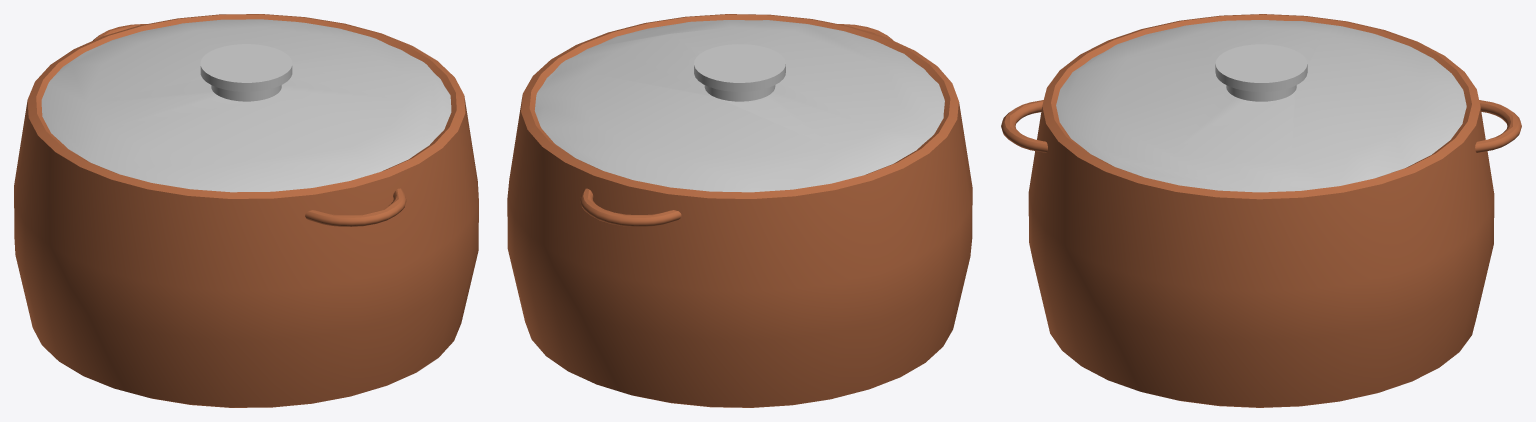
Rendered from Small Orange Pot.fbx.
3 views of the same model, side by side, from view 1: azimuth 30°, elevation 25°; view 2: azimuth 150°, elevation 25°; view 3: azimuth 270°, elevation 25° (orthographic).
Visible parts, largest first — view 1: Small Orange Pot, Small Orange Pot Lid; view 2: Small Orange Pot, Small Orange Pot Lid; view 3: Small Orange Pot, Small Orange Pot Lid.
Part boxes in pixels (<box>): Small Orange Pot: <box>14,14,478,407</box>; Small Orange Pot Lid: <box>41,19,451,192</box>; Small Orange Pot: <box>507,14,972,407</box>; Small Orange Pot Lid: <box>534,20,944,192</box>; Small Orange Pot: <box>1001,14,1521,407</box>; Small Orange Pot Lid: <box>1056,20,1466,192</box>.
Size of the model in its own units: 37.13 by 33.18 by 20.14.
